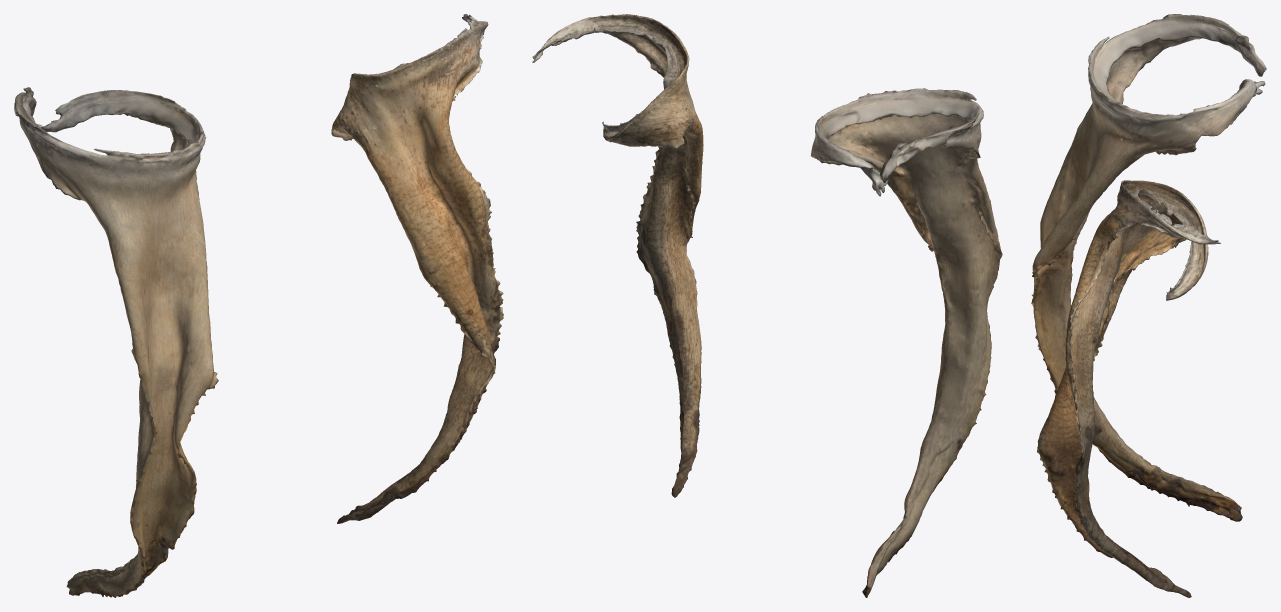
Rendered from dry_quiver_leaf.glb.
3 renders of one model, left to right at view 1: azimuth 30°, elevation 25°; view 2: azimuth 150°, elevation 25°; view 3: azimuth 270°, elevation 25°, orthographic. The views are drawn at different scales.
Visible parts, largest first — view 1: dry_quiver_leaf_b; view 2: dry_quiver_leaf_b; view 3: dry_quiver_leaf_b.
Part boxes in pixels (x1,y1,x2,y2): dry_quiver_leaf_b: [14, 14, 503, 597]; dry_quiver_leaf_b: [532, 14, 1002, 597]; dry_quiver_leaf_b: [1031, 14, 1266, 597].
Size of the model in its own units: 0.3967 by 0.425 by 0.1918.
1 material, 1 textured.
